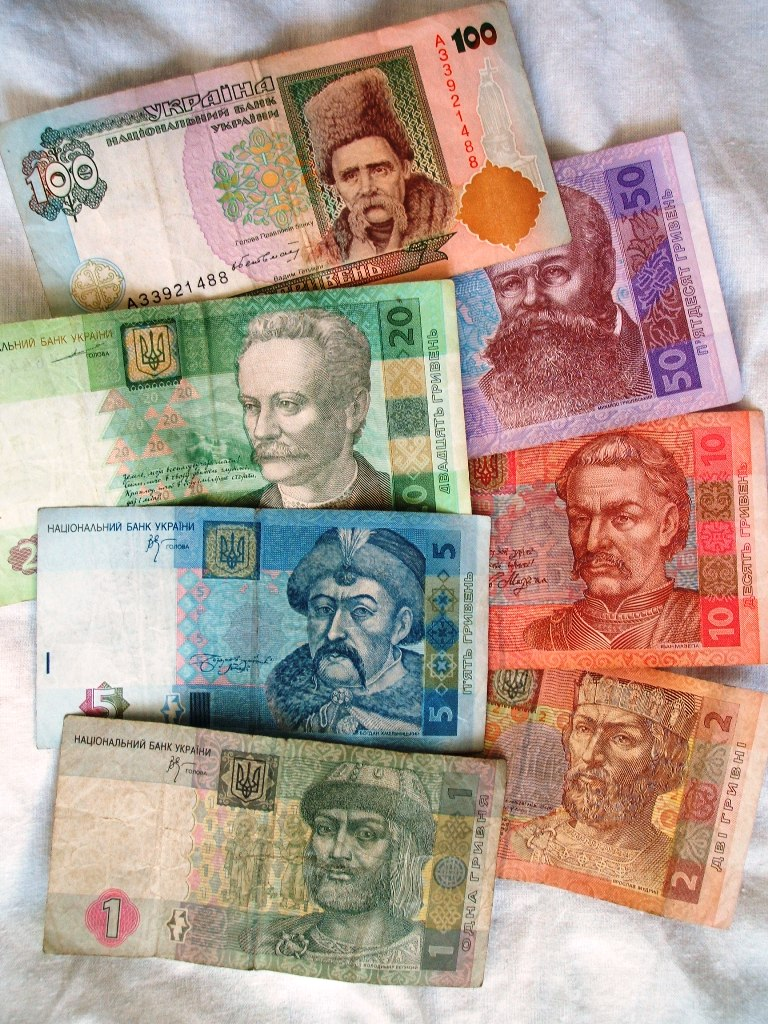bn_1: (53, 745, 498, 961)
bn_10: (500, 419, 768, 663)
bn_100: (5, 0, 489, 305)
bn_2: (500, 672, 768, 916)
bn_20: (1, 299, 465, 508)
bn_5: (27, 516, 475, 714)
bn_50: (445, 157, 746, 460)
